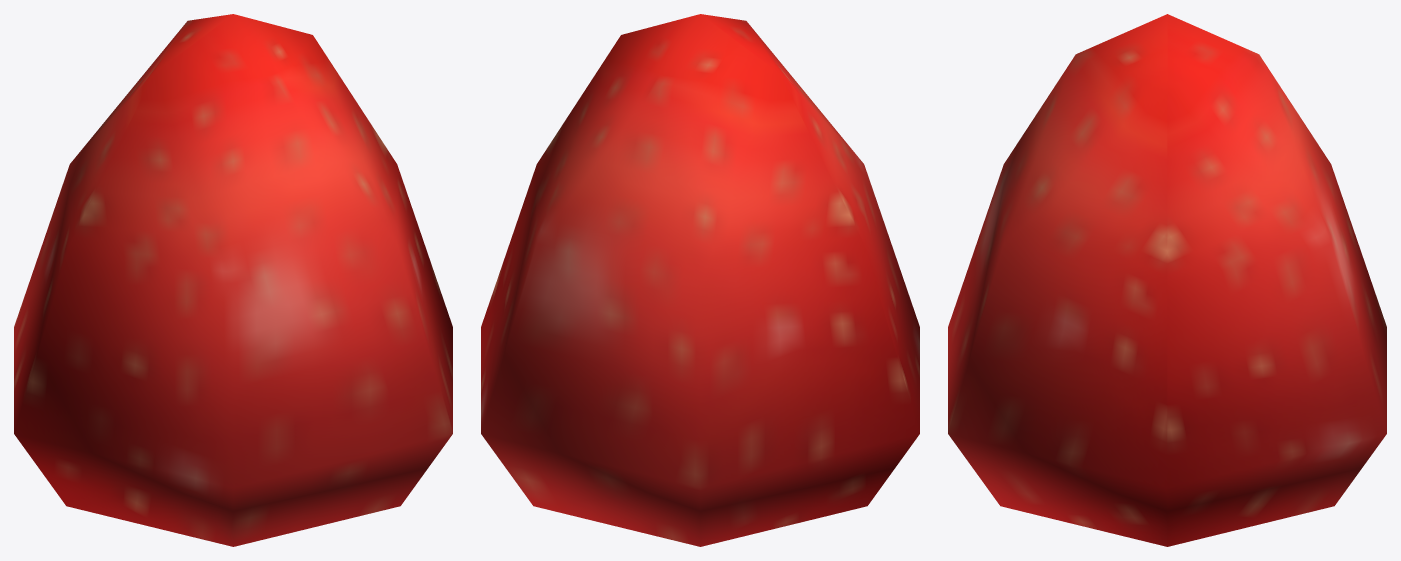
Rendered from jsf_Strawberry_01.fbx.
The picture shows the model from 3 angles, left to right: view 1: azimuth 30°, elevation 25°; view 2: azimuth 150°, elevation 25°; view 3: azimuth 270°, elevation 25°; orthographic projection.
Visible parts, largest first — view 1: jsf_Strawberry_01; view 2: jsf_Strawberry_01; view 3: jsf_Strawberry_01.
Part boxes in pixels (x1,y1,x2,y2): jsf_Strawberry_01: (14, 14, 452, 546); jsf_Strawberry_01: (481, 14, 919, 546); jsf_Strawberry_01: (948, 14, 1386, 546).
Bounding box in the file's own units: 2.74 × 2.76 × 2.38.
